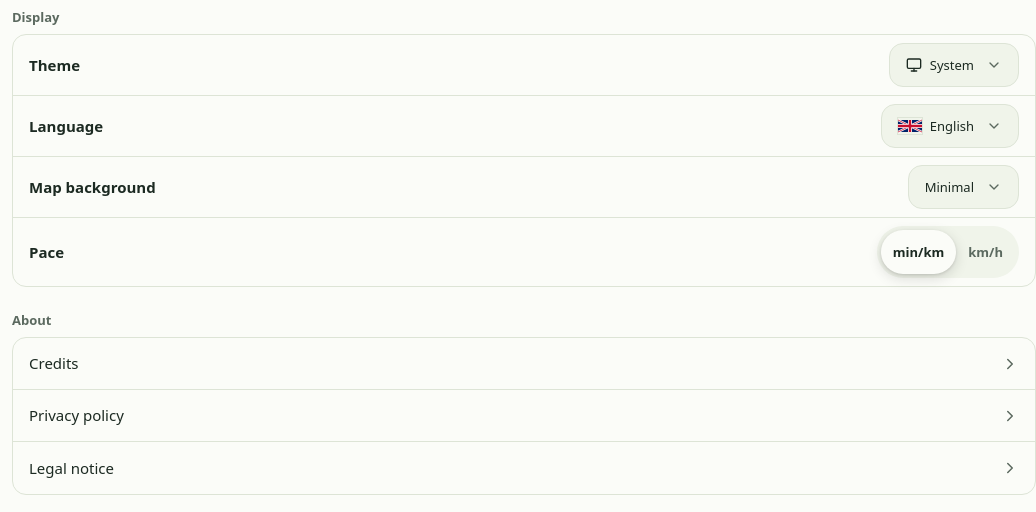
Test case: SettingsView › shows the saved map background, and saves the one the user picks
Click the dropdown with test id "settings-basemap".
click(963, 187)  # box [908, 165, 1019, 209]
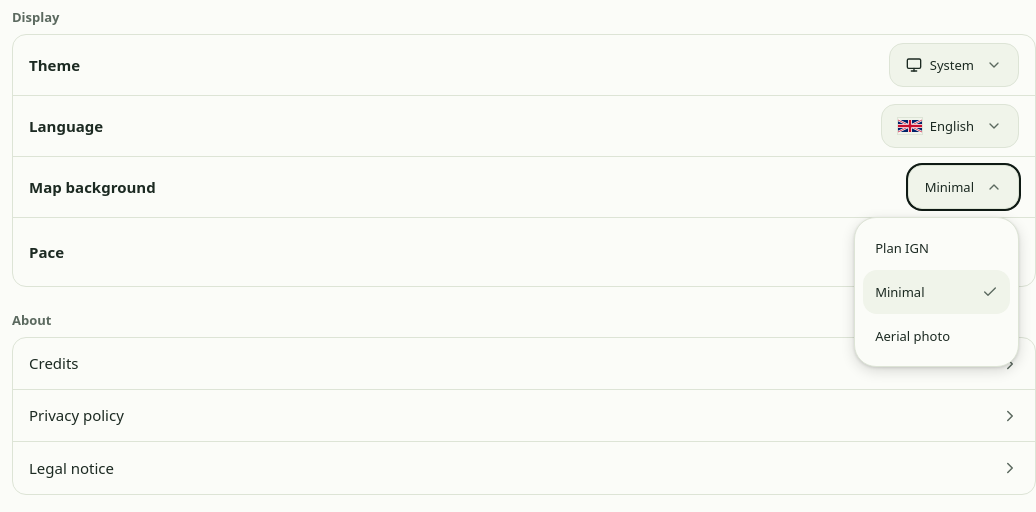
Click the option with test id "settings-basemap-aerial".
click(913, 336)  # box [875, 327, 950, 345]
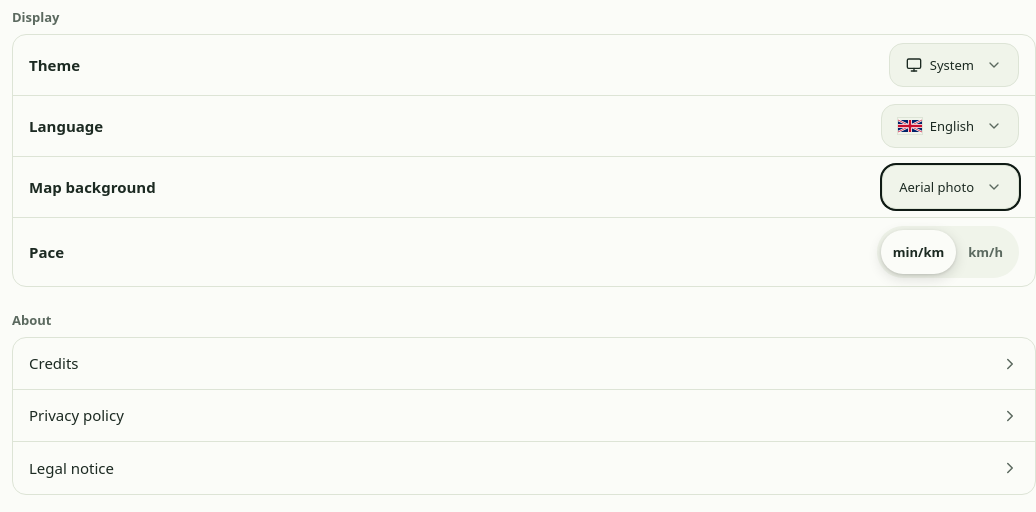
Expected: the dropdown with test id "settings-basemap" reads "Aerial photo", [882, 165, 1019, 209]
